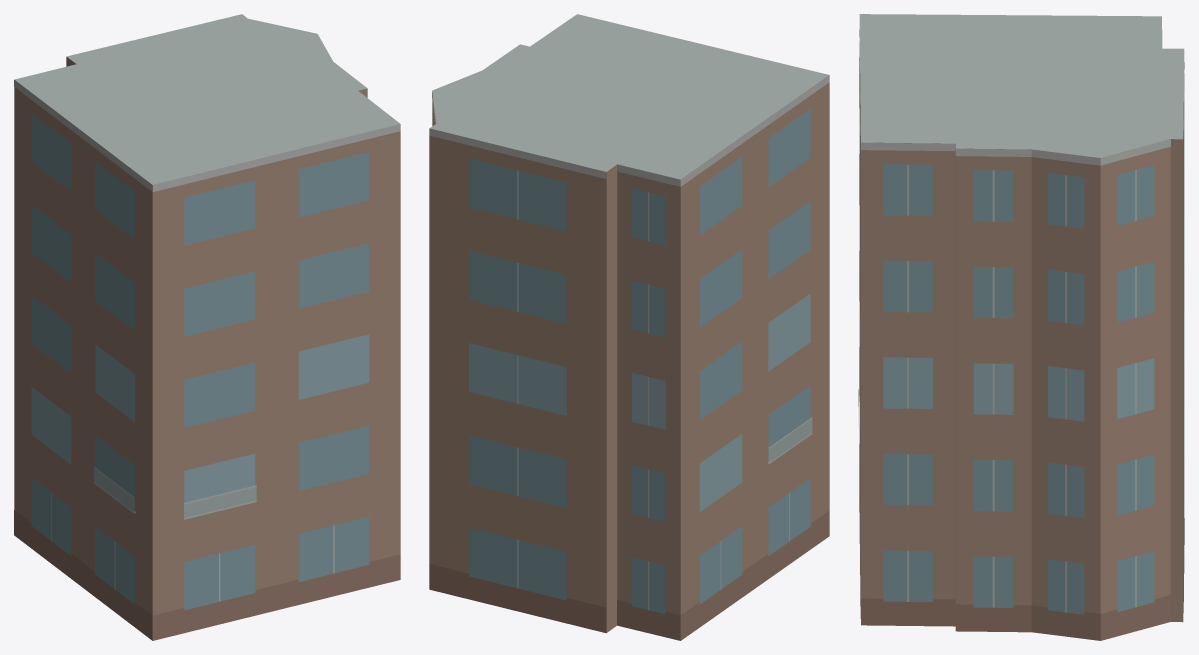
The model's file is survey-upis-32749190.glb.
3 views of the same model, side by side, from view 1: azimuth 30°, elevation 25°; view 2: azimuth 150°, elevation 25°; view 3: azimuth 270°, elevation 25° (orthographic). The views are drawn at different scales.
Parts seen in each view (by area): view 1: survey-upis-32749190.tmp; view 2: survey-upis-32749190.tmp; view 3: survey-upis-32749190.tmp.
Part boxes in pixels (<box>): survey-upis-32749190.tmp: <box>14,14,400,640</box>; survey-upis-32749190.tmp: <box>429,14,829,640</box>; survey-upis-32749190.tmp: <box>858,14,1184,640</box>.
Size of the model in its own units: 10.01 by 15.6 by 9.56.
